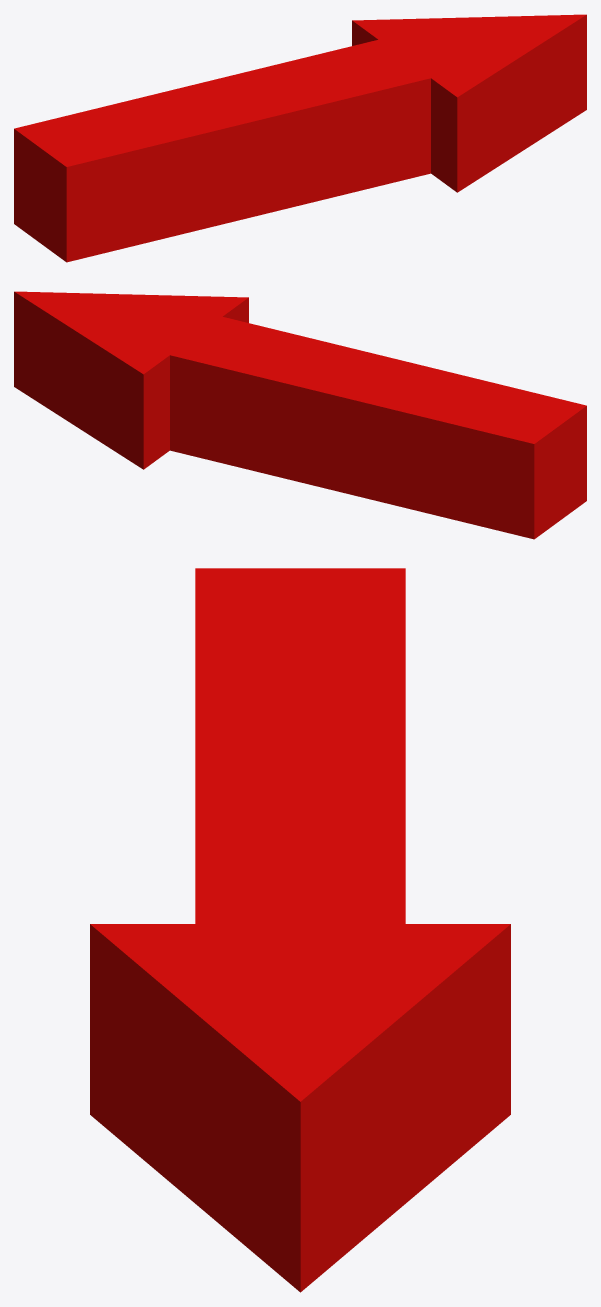
Rendered from flecha.glb.
3 views of the same model, one above another, from view 1: azimuth 30°, elevation 25°; view 2: azimuth 150°, elevation 25°; view 3: azimuth 270°, elevation 25° (orthographic). The views are drawn at different scales.
Parts seen in each view (by area): view 1: Plane; view 2: Plane; view 3: Plane.
Part boxes in pixels (left/top/right/bottom): Plane: left=14, top=14, right=586, bottom=262; Plane: left=14, top=291, right=586, bottom=539; Plane: left=90, top=568, right=510, bottom=1292.
Size of the model in its own units: 0.009 by 0.0015 by 0.003.
